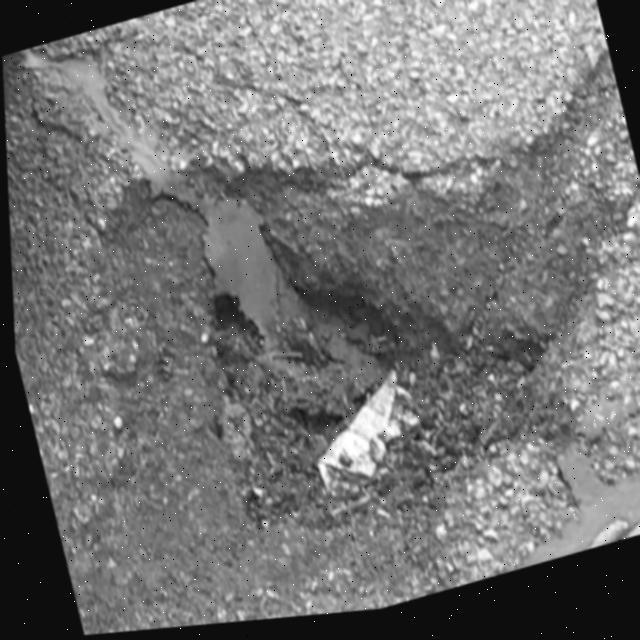pothole: (143, 99, 526, 562)
